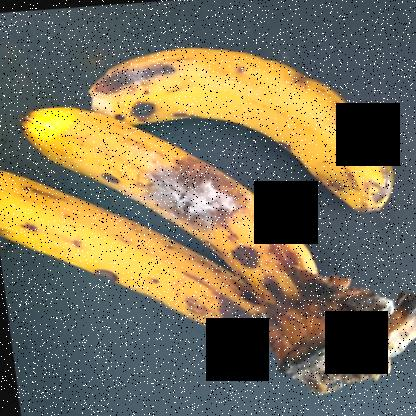overripe: (70, 35, 404, 205), (23, 96, 328, 282), (1, 188, 266, 340)
